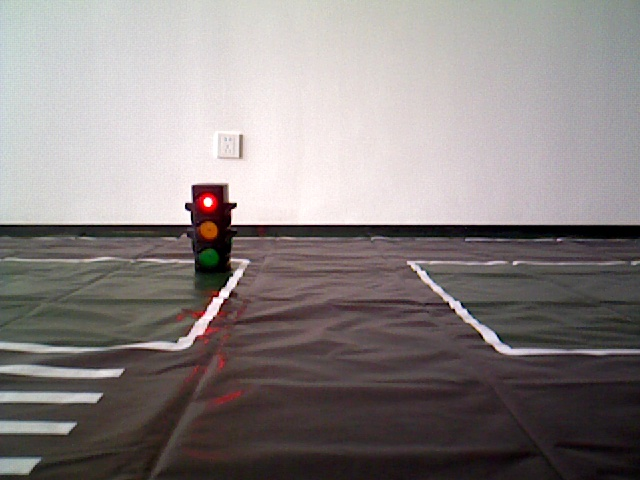red: (190, 186, 227, 282)
